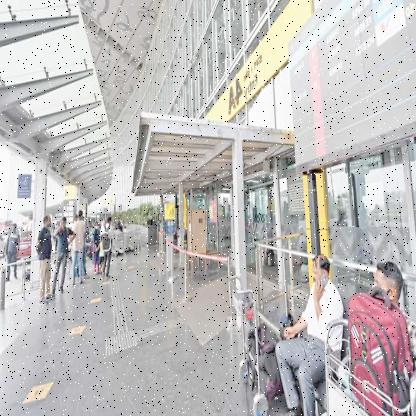airport-trolley: (322, 317, 416, 416), (228, 270, 291, 416)
